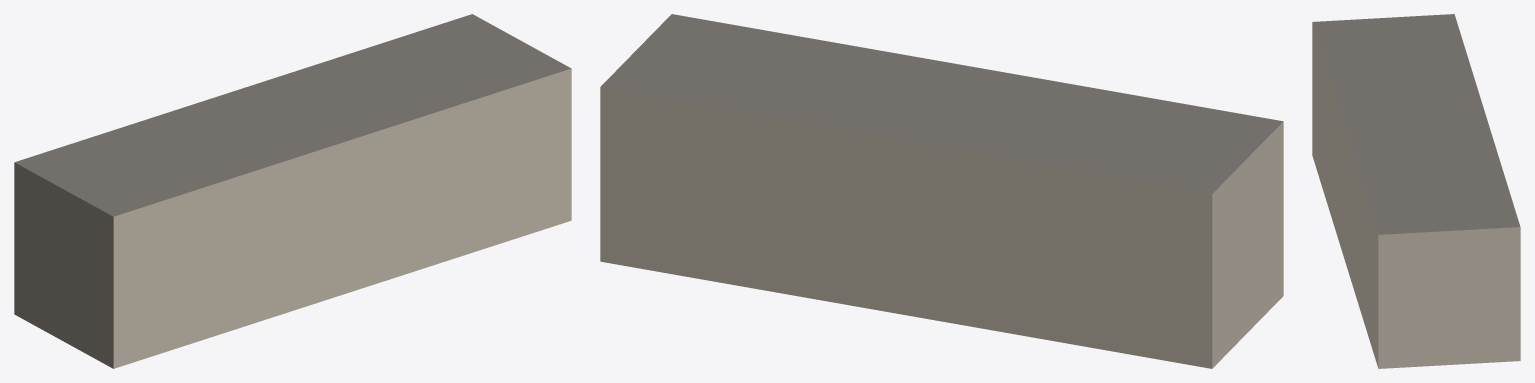
3 renders of one model, left to right at view 1: azimuth 30°, elevation 25°; view 2: azimuth 150°, elevation 25°; view 3: azimuth 270°, elevation 25°, orthographic. The views are drawn at different scales.
Visible parts, largest first — view 1: HP-w582302363; view 2: HP-w582302363; view 3: HP-w582302363.
Boxes of the visible parts, <box> form: HP-w582302363: <box>14,14,571,368</box>; HP-w582302363: <box>600,14,1283,368</box>; HP-w582302363: <box>1312,14,1520,368</box>.
Bounding box in the file's own units: 63.61 × 18 × 25.31.
